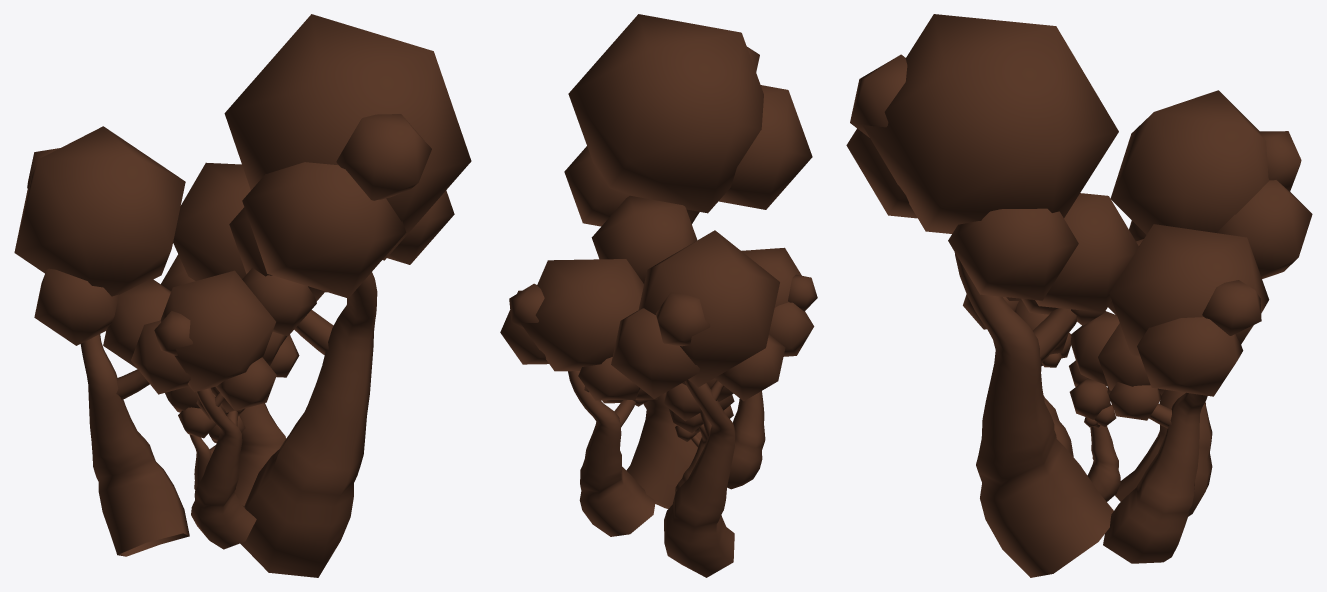
Rendered from Floresta.fbx.
3 renders of one model, left to right at view 1: azimuth 30°, elevation 25°; view 2: azimuth 150°, elevation 25°; view 3: azimuth 270°, elevation 25°, orthographic. The views are drawn at different scales.
Parts seen in each view (by area): view 1: Floresta; view 2: Floresta; view 3: Floresta.
Boxes of the visible parts, left/top/right/bottom form: Floresta: left=14, top=14, right=471, bottom=577; Floresta: left=500, top=14, right=817, bottom=577; Floresta: left=846, top=14, right=1312, bottom=577.
Bounding box in the file's own units: 302 × 489 × 371.
